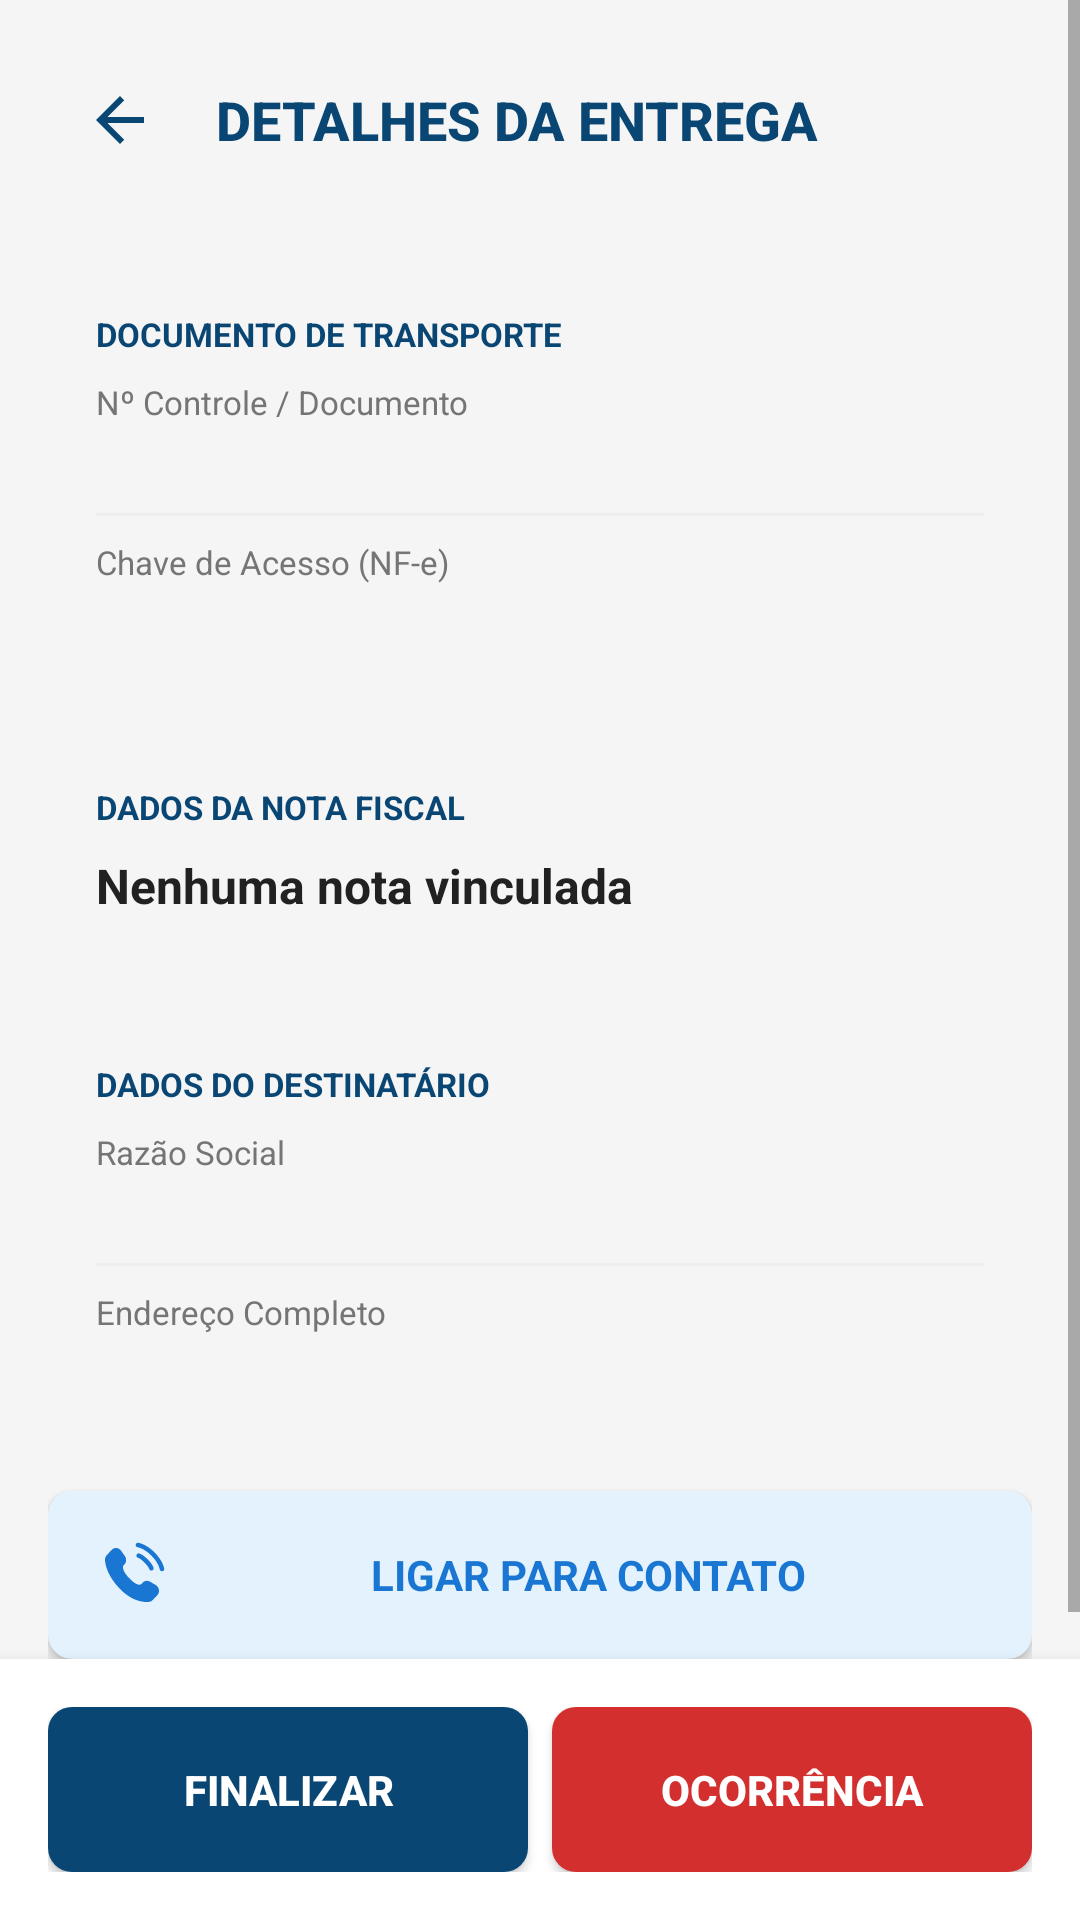

Icon bounding boxes for this 1080×1920 phone screenshot, format detection(x1, y1, x2, y2):
back: detection(96, 96, 144, 144)
